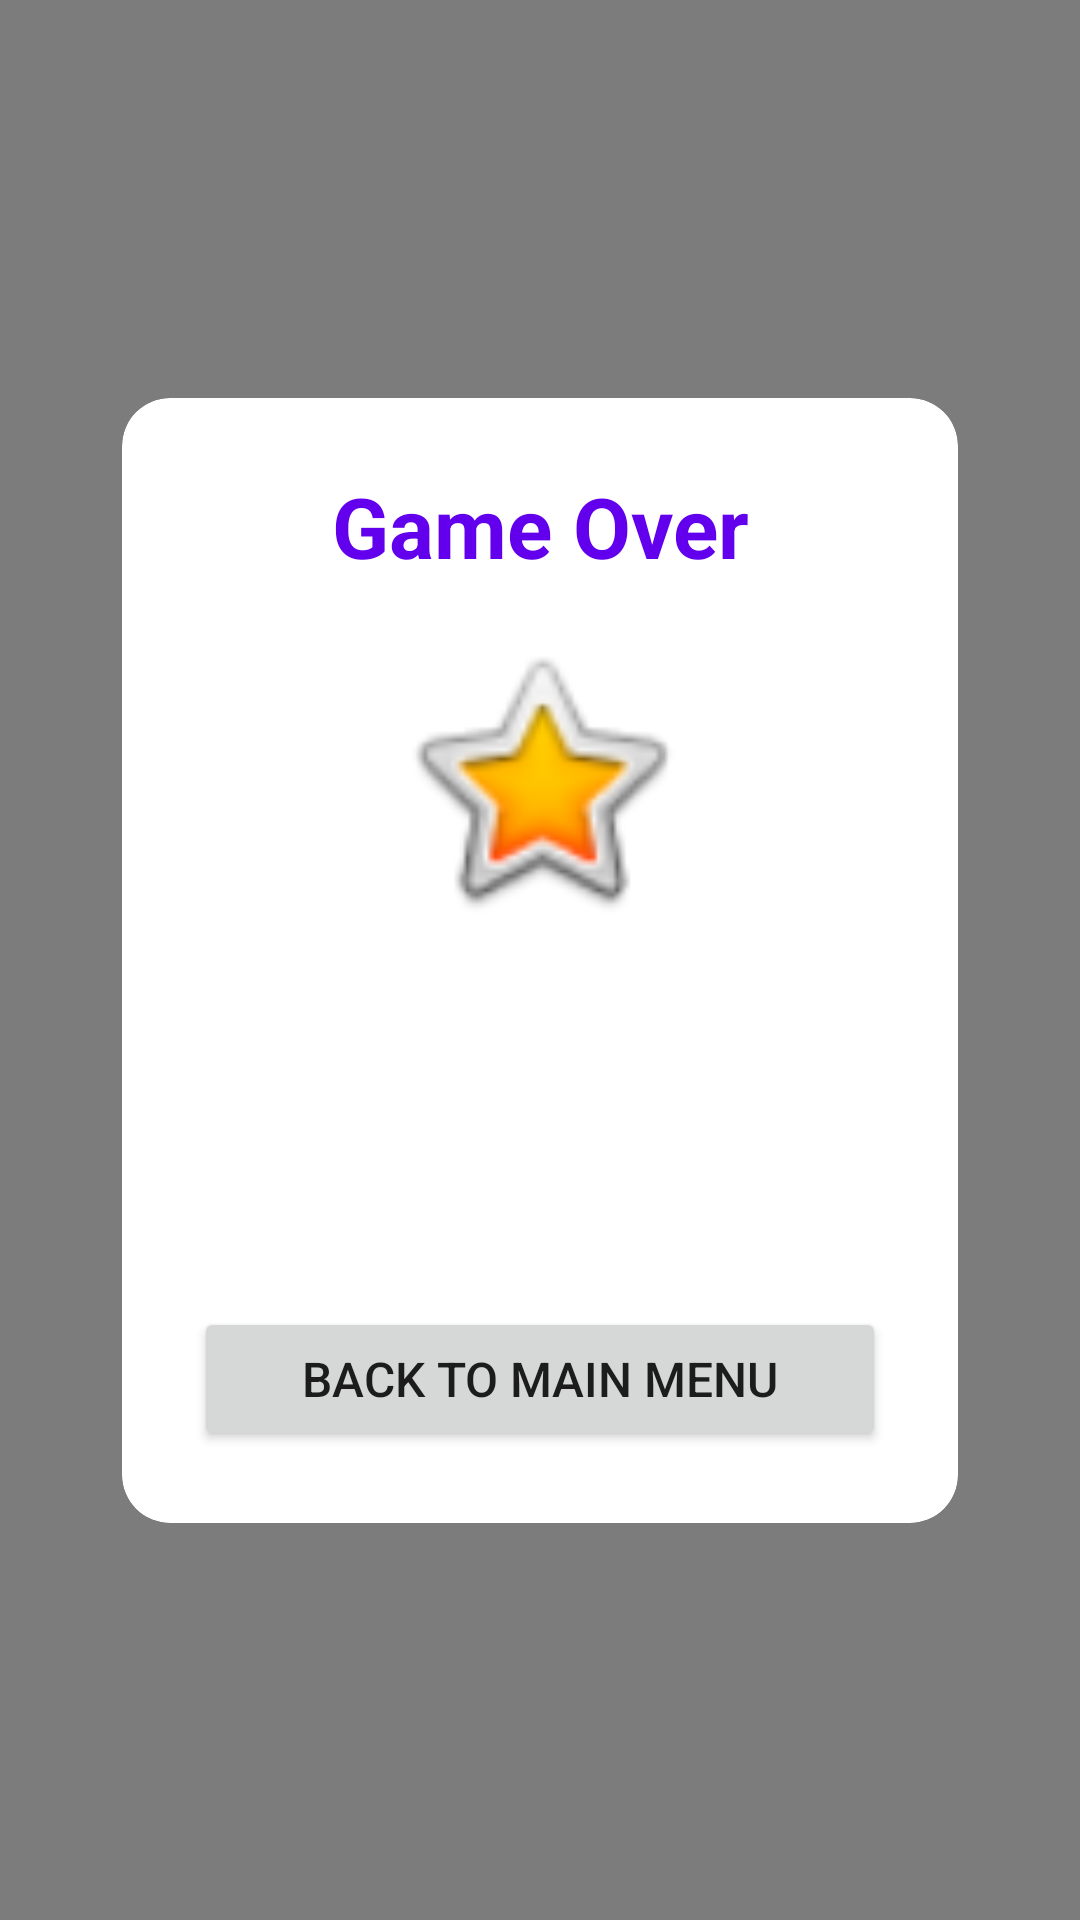

Icons on this 1080px x 1920px Android screen, each with the point to tap as [x,y]:
star on: [542,782]
